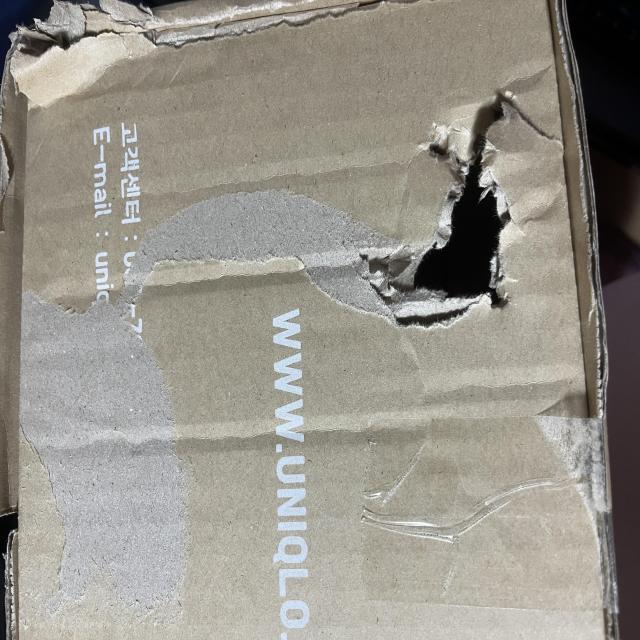damaged: (217, 488, 419, 640)
